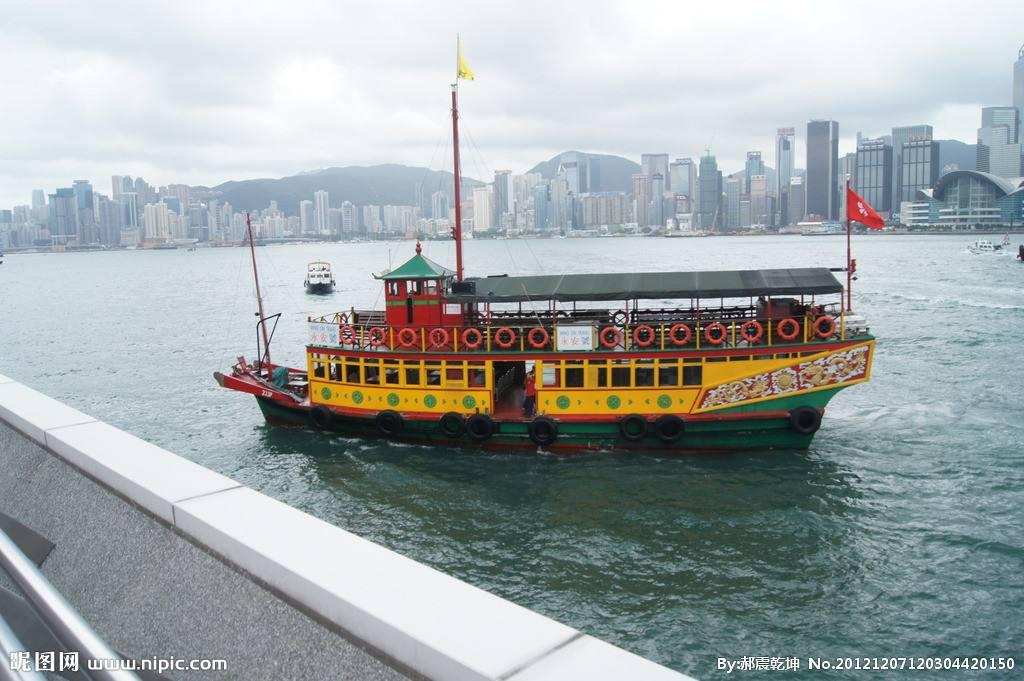otherboat: (230, 177, 900, 449), (303, 252, 336, 295)
